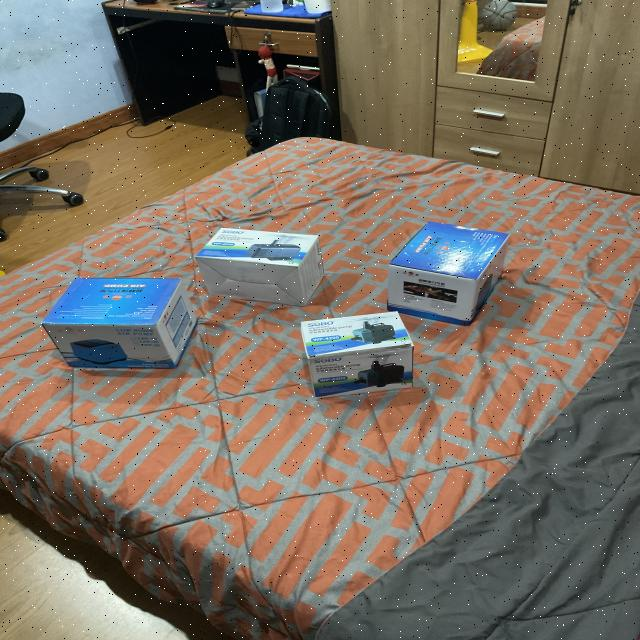SOBO_WP_4200: (194, 216, 332, 306), (300, 301, 414, 408)
YAMANO_LPP_20: (38, 261, 206, 387), (378, 214, 520, 324)
